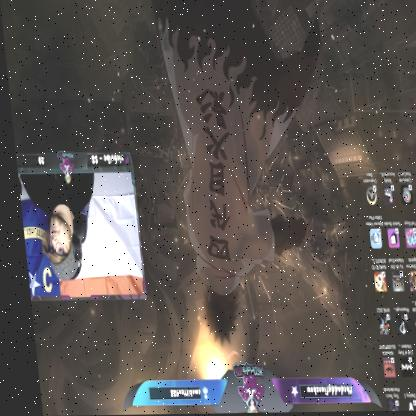streamer: (16, 174, 100, 282)
